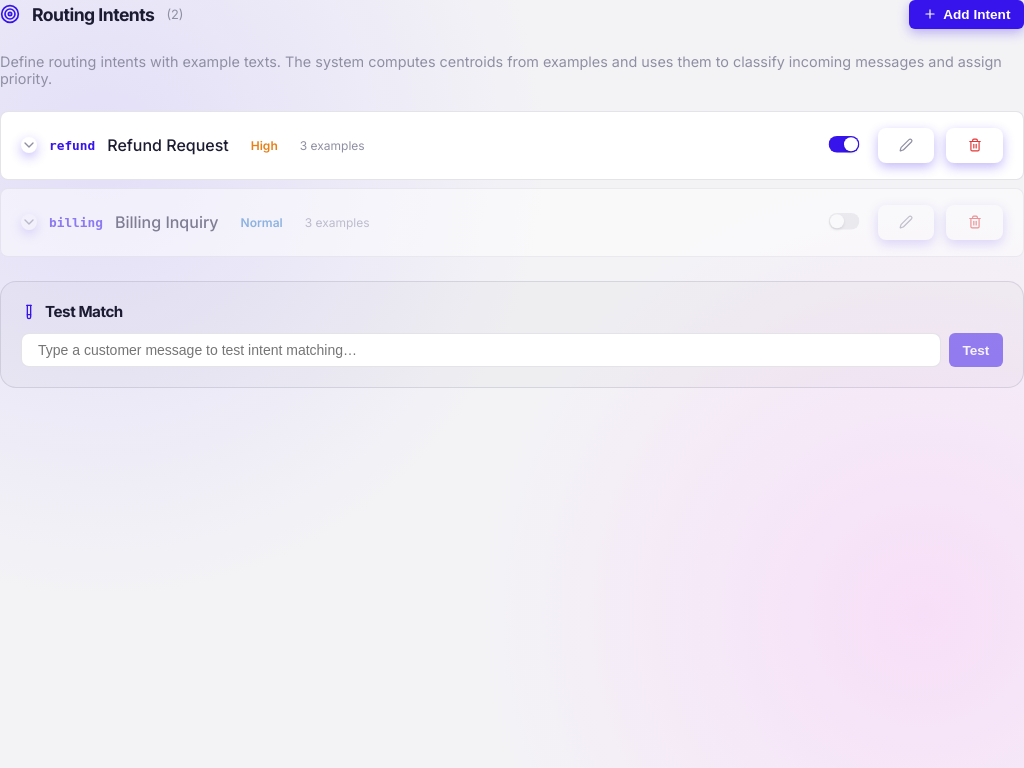
Test: IntentManagement › opens create form on Add Intent click
Step 1. Click the button "Add Intent" → {"x": 967, "y": 14}, box [909,0,1023,29]
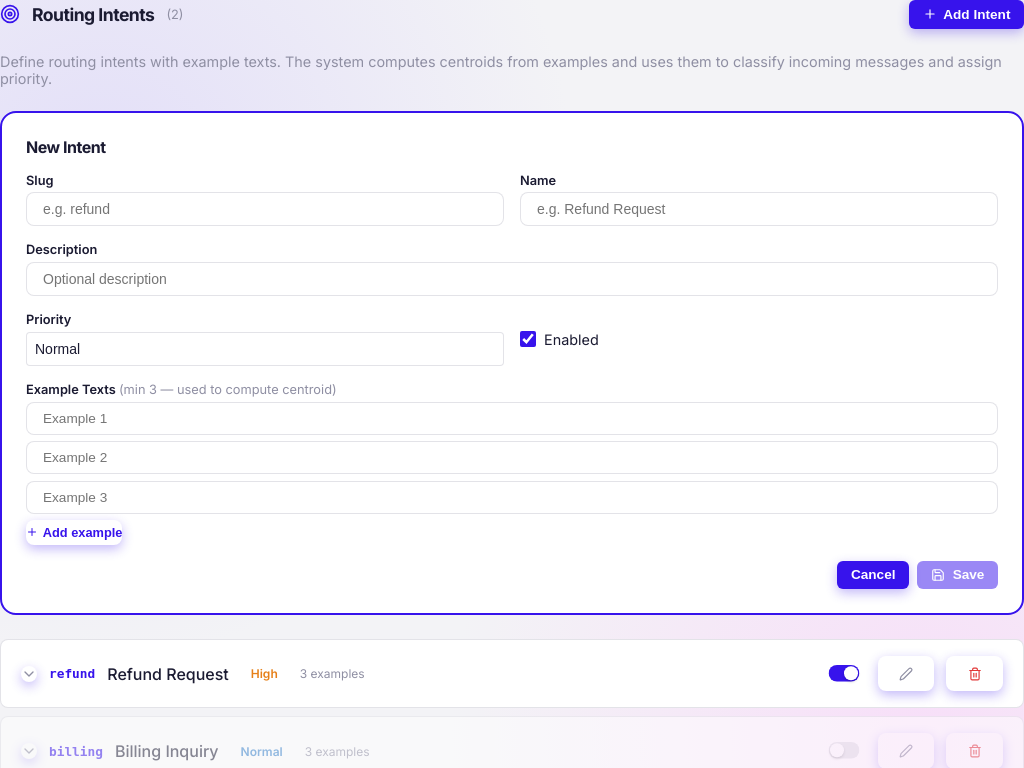
Expected: the heading "New Intent" is shown, [26,137,106,157]
Expected: the text "Slug" is shown, [26,173,54,188]
